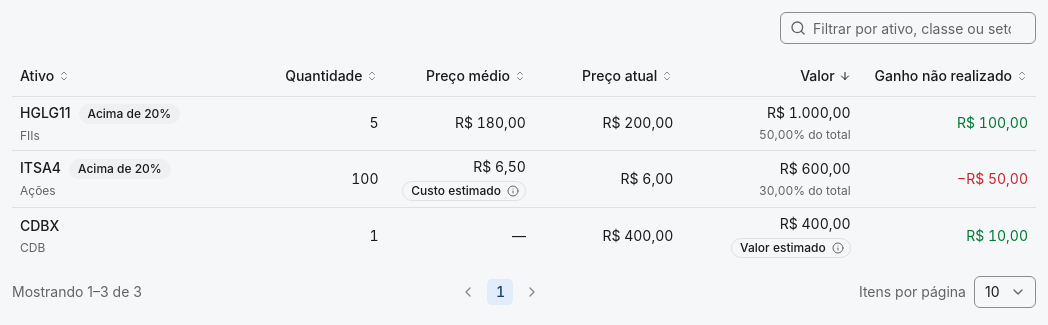
HoldingsTable — SPEC-015 AC-4 › leaves out the details a tab hides
Type "logistica" into the search field with placeholder "Filtrar por ativo, classe ou setor" at (908, 28), box [780, 12, 1036, 44]
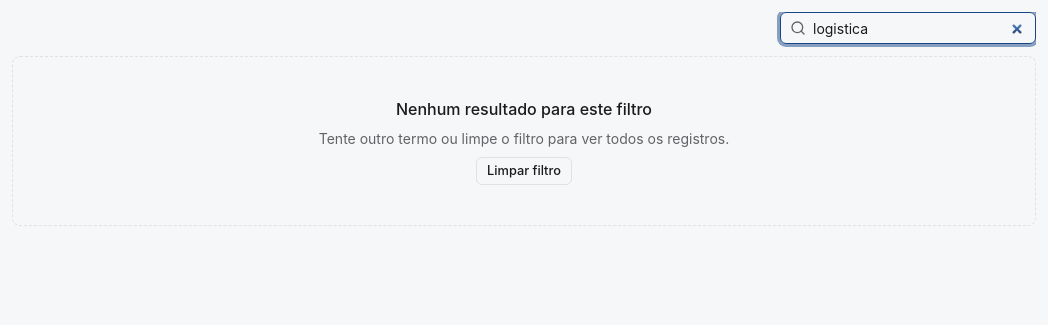
Result: the table is gone
